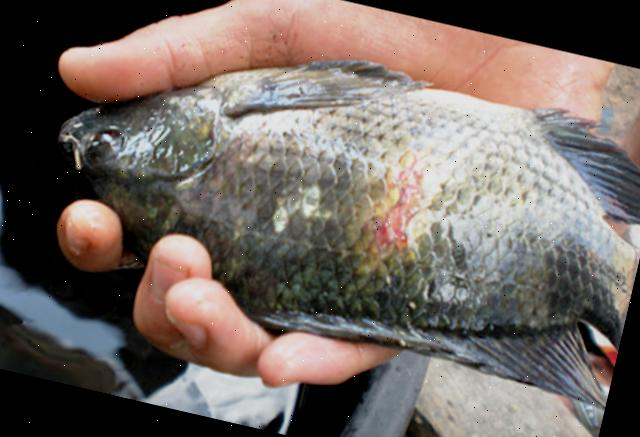Tilapia Lake Virus -TiLV-: (58, 60, 640, 406)
